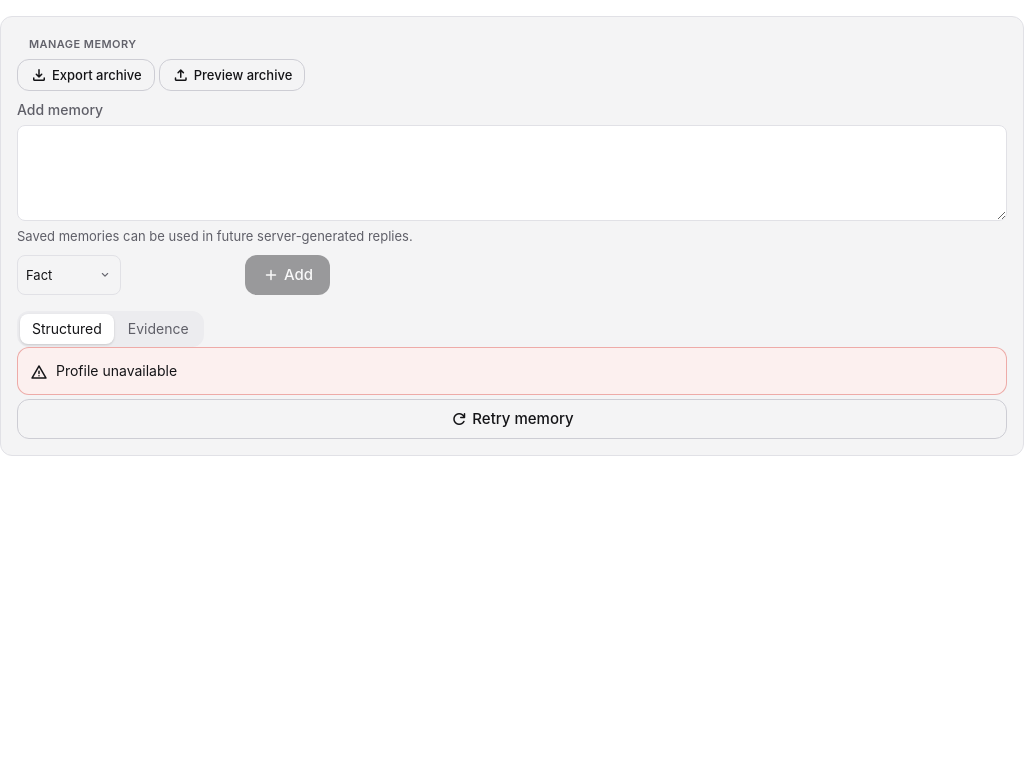
Test: MemoryManager load ownership › keeps raw evidence available independently of a failed structured profile
The image size is (1024, 768).
Expected: the text "Profile unavailable" is shown, [56,360,177,382]
Click the tab "Evidence" at [158, 329], box [116,314,201,344]
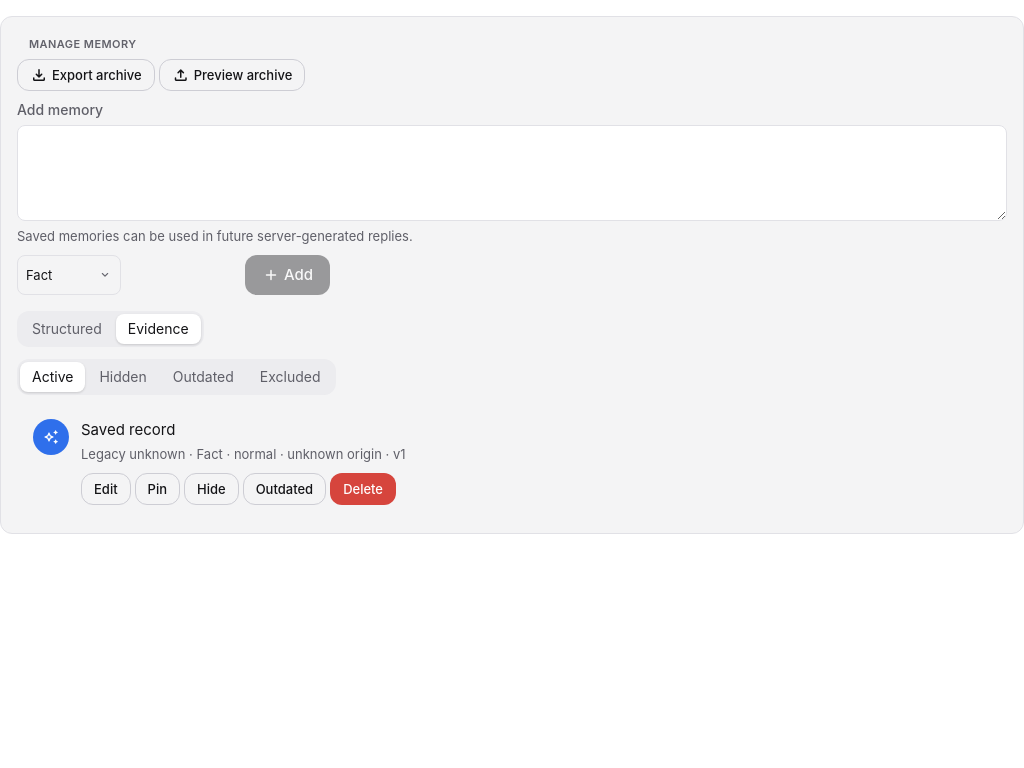
Expected: the text "Saved record" is shown, [81,420,175,439]
Click the tab "Outdated" at [203, 377], box [161,362,246,392]
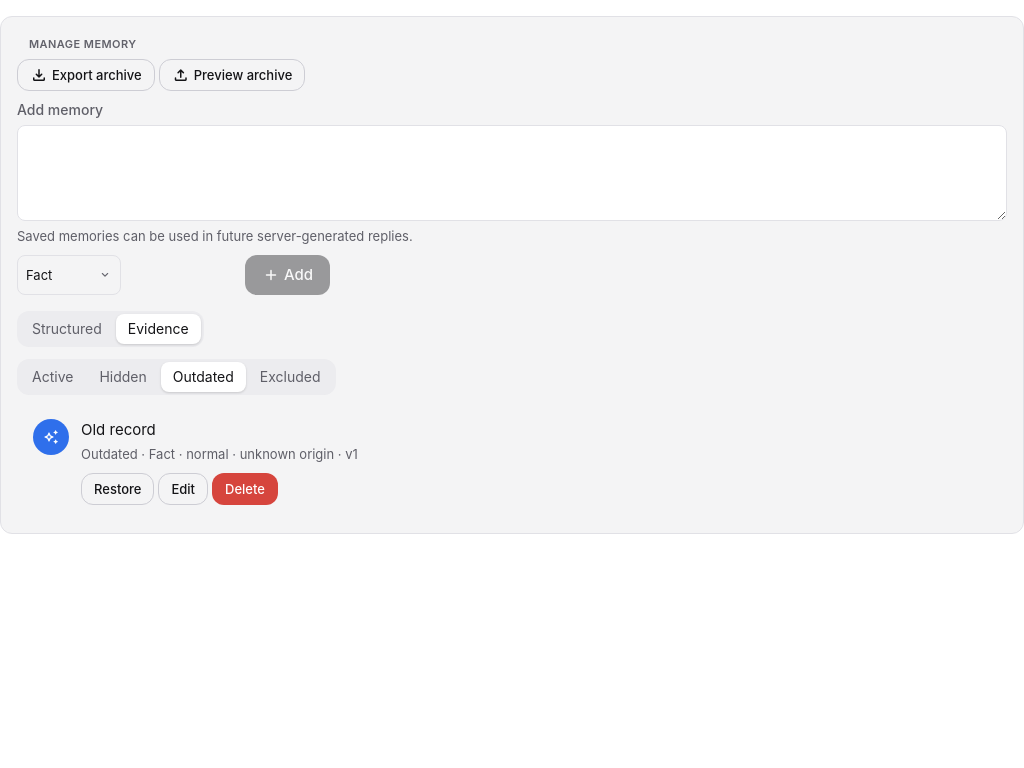
Expected: the text "Old record" is shown, [81,420,156,439]
Click the tab "Structured" at [67, 329], box [20,314,114,344]
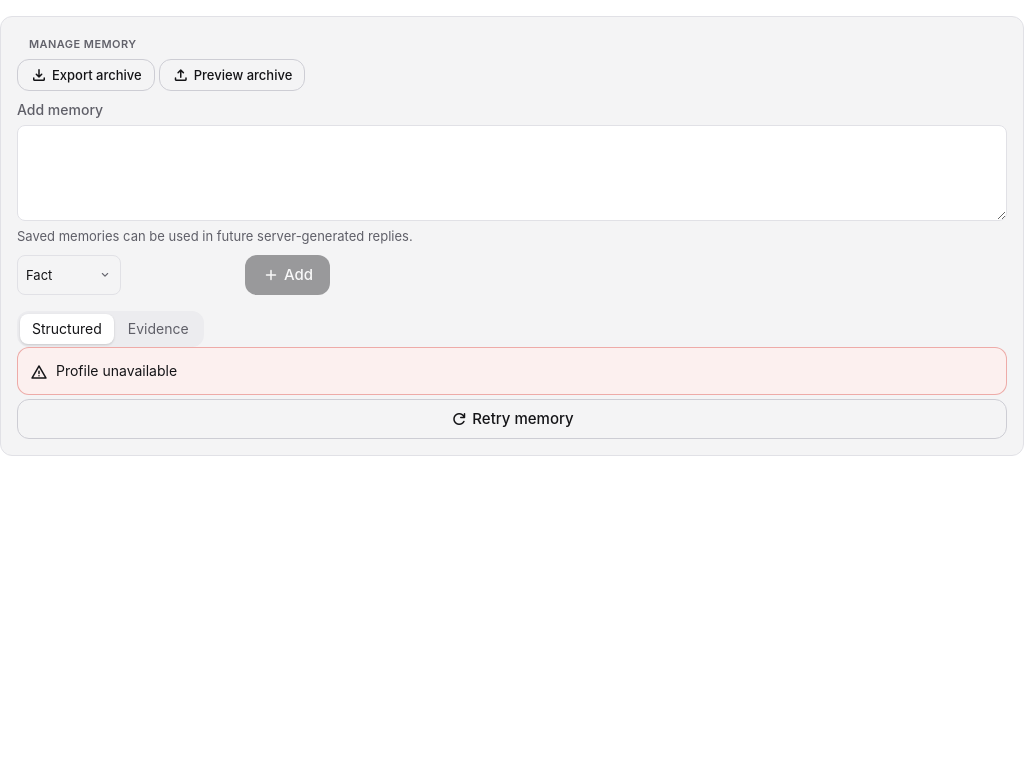
Expected: the text "Profile unavailable" is shown, [56,360,177,382]
Click the tab "Evidence" at [158, 329], box [116,314,201,344]
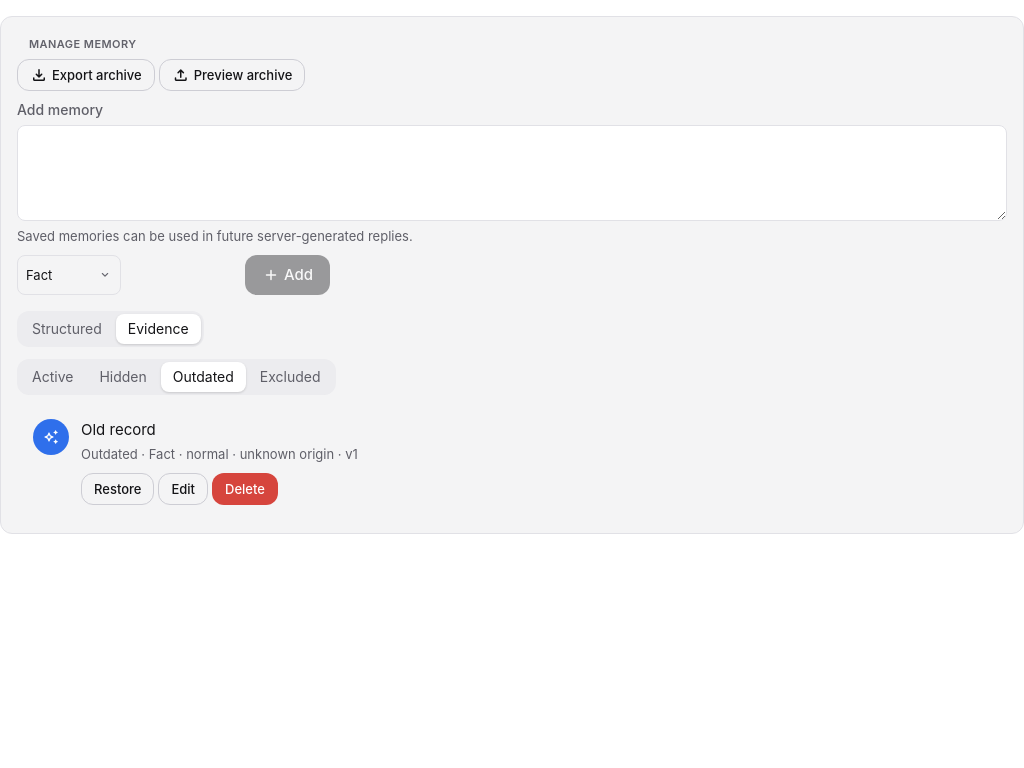
Expected: the text "Old record" is shown, [81,420,156,439]
